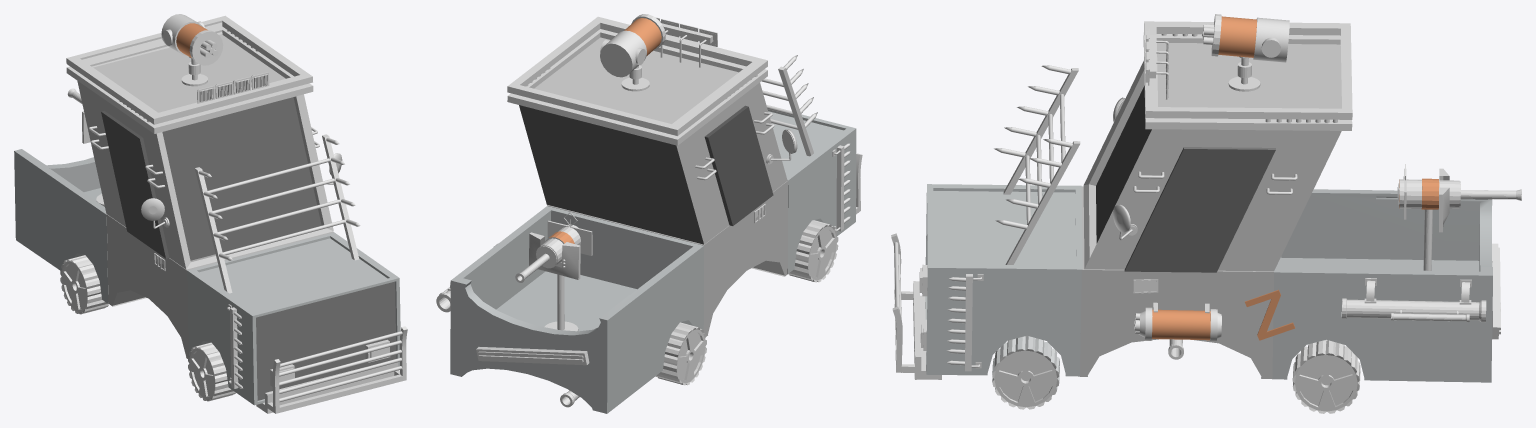
File: car.fbx
3 views of the same model, side by side, from view 1: azimuth 30°, elevation 25°; view 2: azimuth 150°, elevation 25°; view 3: azimuth 270°, elevation 25° (orthographic). The views are drawn at different scales.
Visible parts, largest first — view 1: pasted__pasted__pasted__pCube1, pasted__pasted__pasted__polySurface4, pasted__pasted__pasted__polySurface8, pasted__pasted__pasted__polySurface2, pasted__pasted__pCube90, pasted__pasted__pCube89, pasted__pasted__pCylinder21, pasted__pasted__pCylinder17, pasted__pCylinder13, pasted__pasted__pCube25, pasted__pasted__pCube33, pasted__pasted__pCube42 (+14 smaller); view 2: pasted__pasted__pasted__pCube1, pasted__pasted__pasted__polySurface8, pasted__pasted__pasted__polySurface4, pasted__pasted__pasted__polySurface2, pasted__pasted__pCube90, pasted__pasted__pCube89, pasted__pCylinder13, pasted__pasted__pCylinder21, pasted__pasted__pCylinder17, pasted__pCylinder36, pCube16, pasted__pCube10 (+7 smaller); view 3: pasted__pasted__pasted__pCube1, pasted__pasted__pasted__polySurface8, pasted__pasted__pasted__polySurface4, pasted__pasted__pasted__polySurface2, pasted__pasted__pCube90, pasted__pasted__pCylinder22, pasted__pasted__pCylinder18, pasted__pasted__pCube89, pasted__pCylinder13, pasted__pCylinder1, pasted__pCylinder9, pasted__pCylinder36 (+8 smaller).
Part boxes in pixels (box(x1,y1,x2,y2)): pasted__pasted__pasted__pCube1: box(77, 34, 333, 269); pasted__pasted__pasted__polySurface4: box(187, 232, 400, 405); pasted__pasted__pasted__polySurface8: box(14, 149, 108, 303); pasted__pasted__pasted__polySurface2: box(106, 214, 333, 358); pasted__pasted__pCube90: box(66, 15, 312, 124); pasted__pasted__pCube89: box(66, 26, 313, 133); pasted__pasted__pCylinder21: box(60, 255, 108, 314); pasted__pasted__pCylinder17: box(188, 342, 235, 401); pasted__pCylinder13: box(161, 14, 223, 65); pasted__pasted__pCube25: box(264, 362, 398, 413); pasted__pasted__pCube33: box(279, 374, 402, 412); pasted__pasted__pCube42: box(194, 167, 232, 293); pasted__pasted__pasted__pCube1: box(519, 37, 787, 244); pasted__pasted__pasted__polySurface8: box(450, 206, 703, 413); pasted__pasted__pasted__polySurface4: box(767, 109, 856, 273); pasted__pasted__pasted__polySurface2: box(547, 181, 788, 336); pasted__pasted__pCube90: box(507, 16, 767, 135); pasted__pasted__pCube89: box(507, 29, 767, 145); pasted__pCylinder13: box(600, 14, 665, 77); pasted__pasted__pCylinder21: box(655, 322, 706, 385); pasted__pasted__pCylinder17: box(788, 220, 838, 282); pasted__pCylinder36: box(515, 224, 580, 282); pCube16: box(476, 347, 589, 365); pasted__pCube10: box(529, 232, 580, 279); pasted__pasted__pasted__pCube1: box(1083, 43, 1341, 272); pasted__pasted__pasted__polySurface8: box(1272, 189, 1492, 382); pasted__pasted__pasted__polySurface4: box(925, 184, 1082, 376); pasted__pasted__pasted__polySurface2: box(1080, 186, 1273, 378); pasted__pasted__pCube90: box(1144, 21, 1352, 119); pasted__pasted__pCylinder22: box(1292, 340, 1360, 413); pasted__pasted__pCylinder18: box(992, 336, 1059, 409); pasted__pasted__pCube89: box(1143, 32, 1352, 130); pasted__pCylinder13: box(1211, 14, 1289, 62); pasted__pCylinder1: box(1139, 307, 1221, 341); pasted__pCylinder9: box(1341, 298, 1486, 322); pasted__pCylinder36: box(1399, 178, 1521, 209).
Size of the model in its own units: 17.12 by 23.79 by 38.8.
